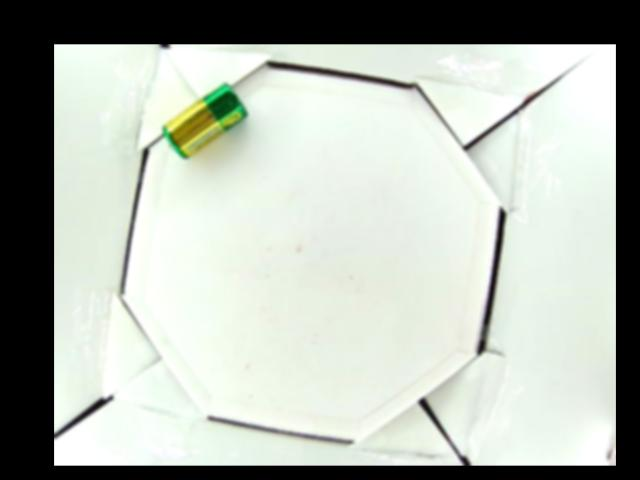Battery: (161, 82, 250, 160)
